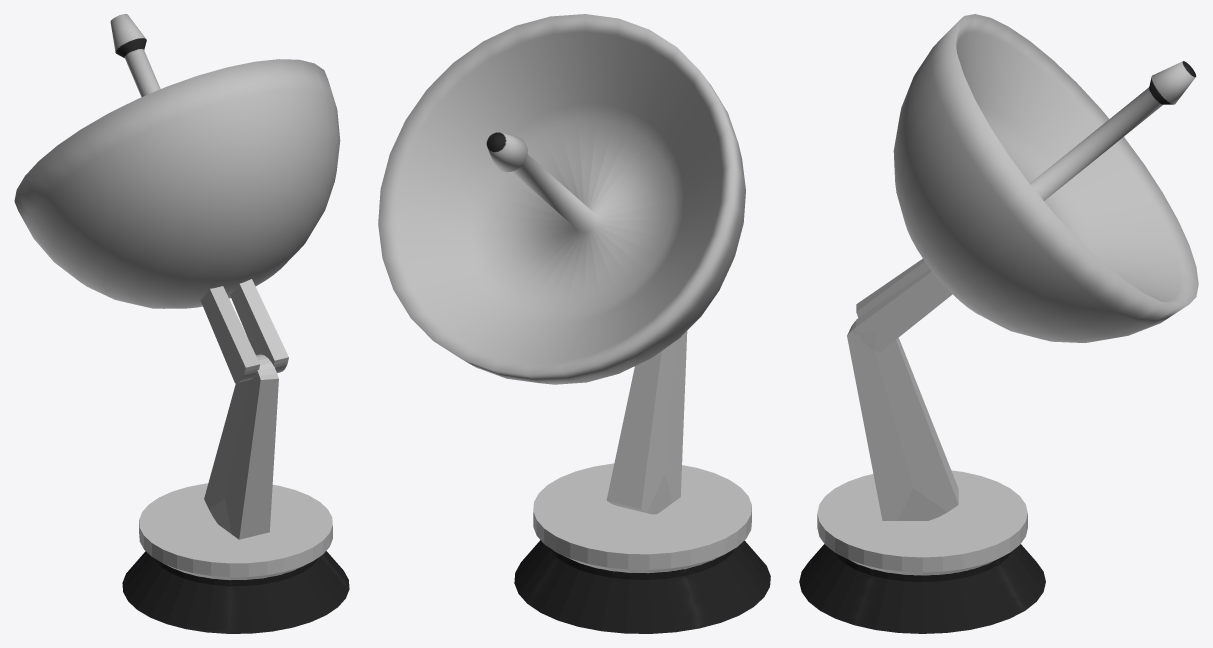
Rendered from Antena.fbx.
3 views of the same model, side by side, from view 1: azimuth 30°, elevation 25°; view 2: azimuth 150°, elevation 25°; view 3: azimuth 270°, elevation 25° (orthographic). The views are drawn at different scales.
Visible parts, largest first — view 1: Cylinder.005; view 2: Cylinder.005; view 3: Cylinder.005.
Boxes of the visible parts, box(x1,y1,x2,y2) form: Cylinder.005: box(14, 14, 349, 633); Cylinder.005: box(378, 14, 770, 633); Cylinder.005: box(799, 14, 1198, 633).
Bounding box in the file's own units: 297 × 491 × 324.
1 material, 1 textured.
